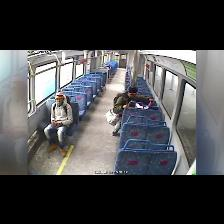person: (0, 75, 27, 174), (113, 87, 153, 135), (44, 93, 72, 157)
